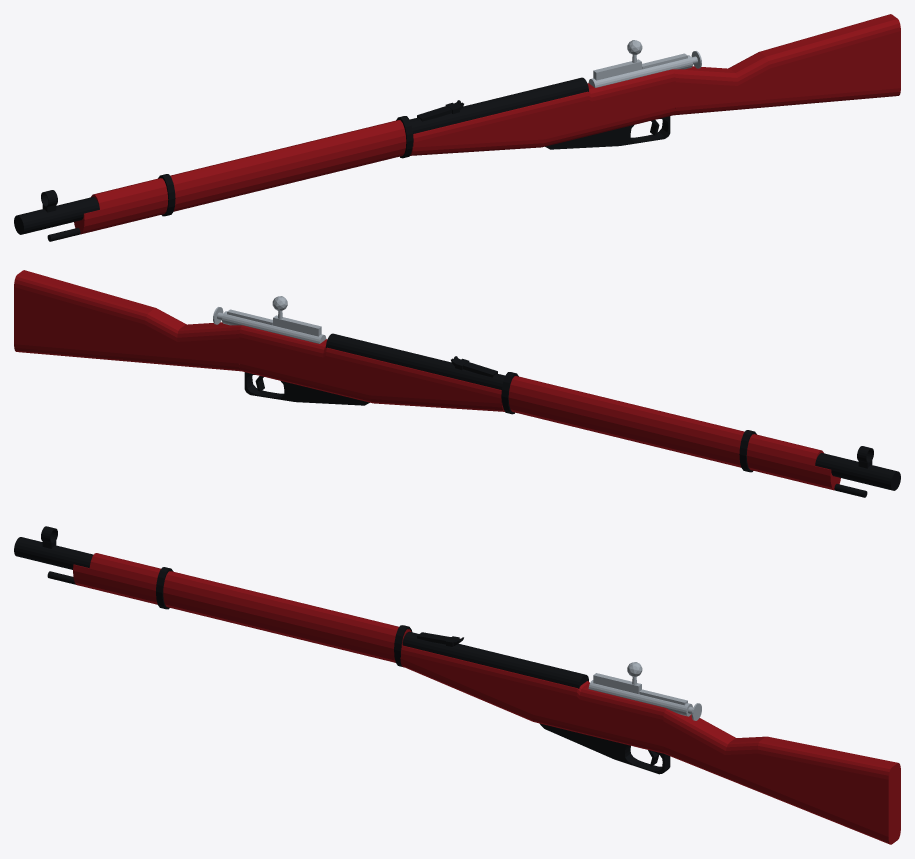
File: mosin-nagant0024.obj
The picture shows the model from 3 angles, top to bottom: view 1: azimuth 30°, elevation 25°; view 2: azimuth 150°, elevation 25°; view 3: azimuth 330°, elevation 25°; orthographic projection.
Visible parts, largest first — view 1: stock, barrel, triggerGuard, bolt, boltLocker; view 2: stock, barrel, triggerGuard, bolt, boltLocker; view 3: stock, barrel, triggerGuard, bolt.
Part boxes in pixels (x1,y1,x2,y2): stock: (74, 14, 900, 234); barrel: (14, 77, 588, 234); triggerGuard: (545, 116, 670, 149); bolt: (588, 55, 692, 87); boltLocker: (593, 59, 641, 80); stock: (14, 270, 840, 490); barrel: (326, 333, 900, 490); triggerGuard: (244, 372, 369, 405); bolt: (222, 311, 326, 343); boltLocker: (273, 315, 321, 336); stock: (73, 553, 900, 844); barrel: (14, 537, 588, 688); triggerGuard: (539, 723, 670, 774); bolt: (588, 680, 692, 716).
Size of the model in its own units: 16.32 by 2.07 by 0.4228.
